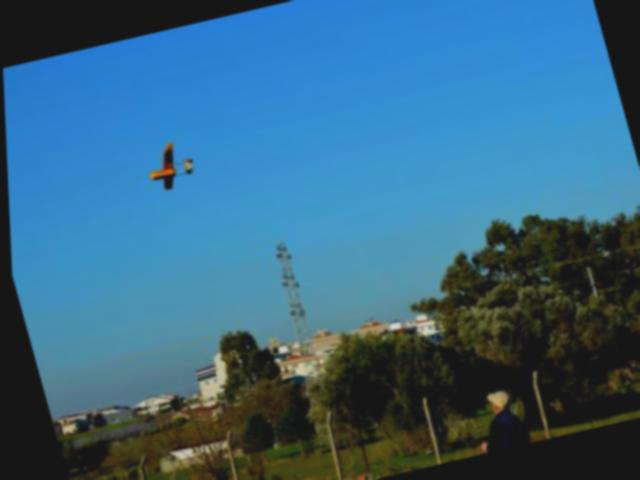iha: (134, 134, 201, 198)
